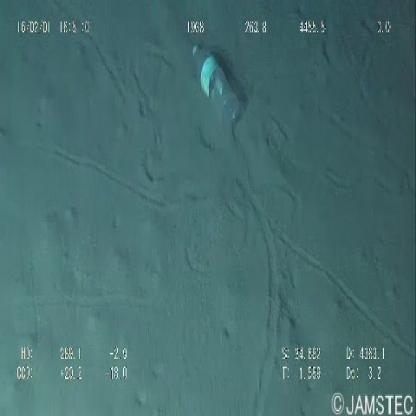Rác: (188, 40, 243, 134)
